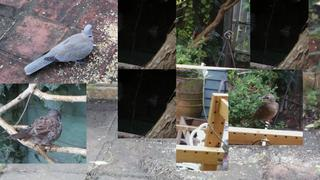collared dove: (24, 24, 94, 75)
dunnock: (6, 108, 62, 152)
starling: (246, 93, 279, 129)
